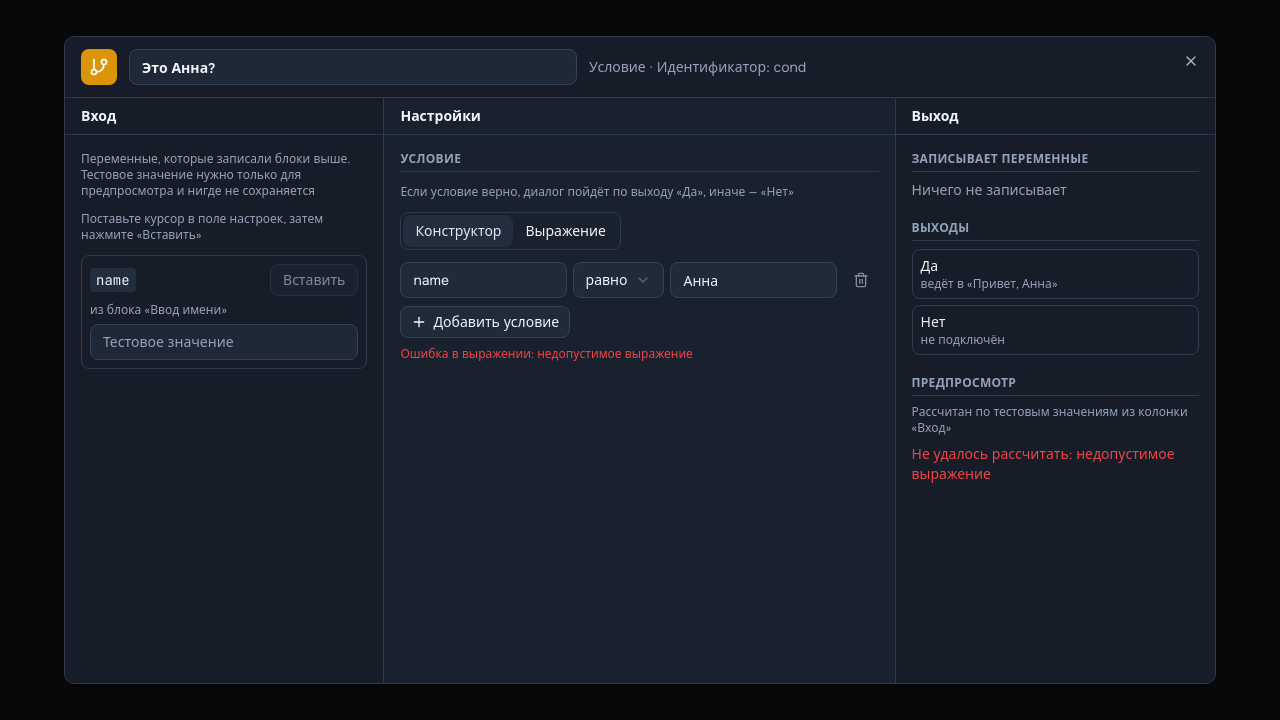
Test: BlockDialog › конструктор условий › удаление строки не сдвигает чужие значения, а её цель «Вставить» сбрасывается
Click the button "Добавить условие" at coordinates (485, 322), box x1=400 y1=306 x2=570 y2=338
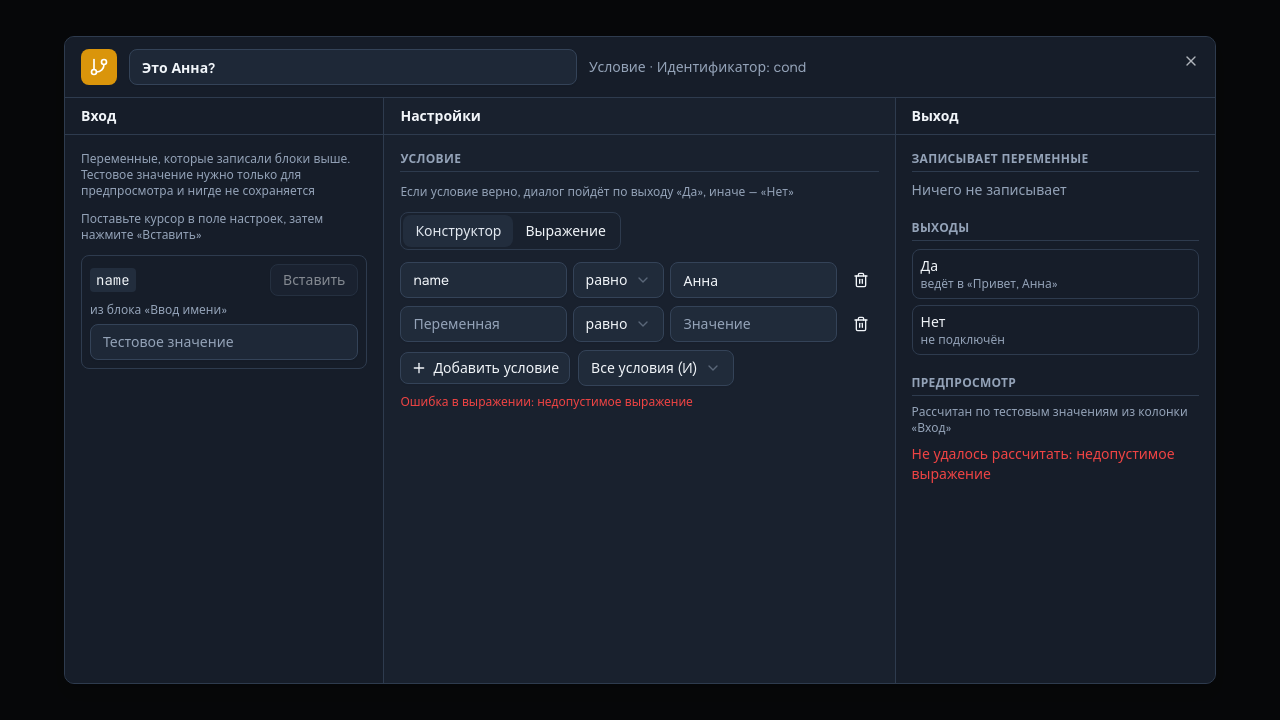
Type "second" into the field named "Переменная 2" at coordinates (483, 324), box x1=400 y1=306 x2=566 y2=342
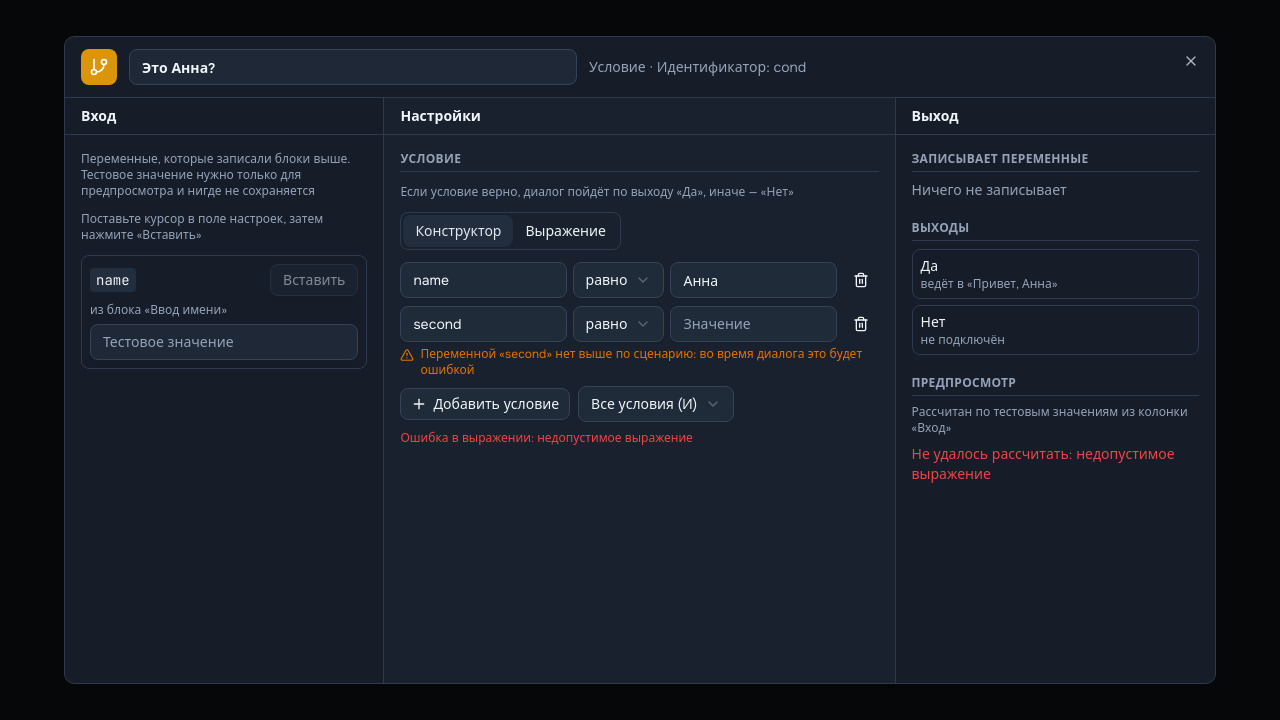
Focus the field named "Переменная 1" at coordinates (483, 280), box x1=400 y1=262 x2=566 y2=298
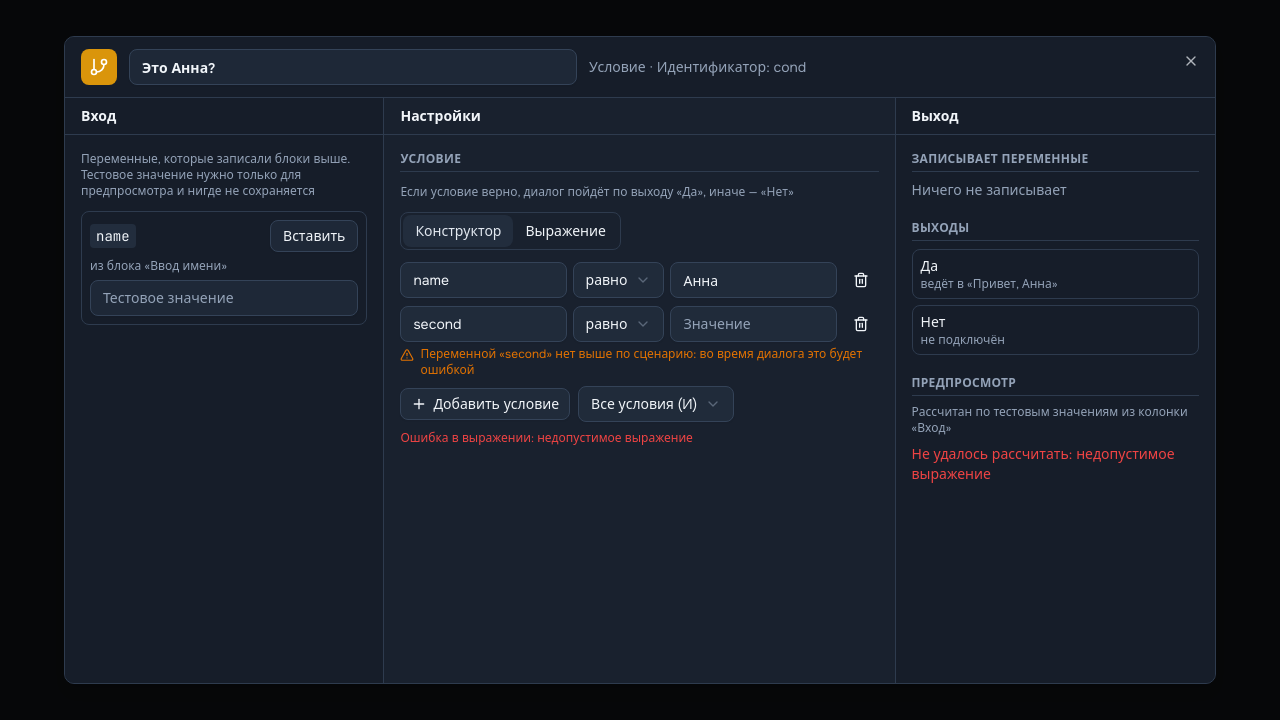
Click the 1st button named "Удалить условие" at coordinates (860, 280), box x1=842 y1=262 x2=878 y2=298
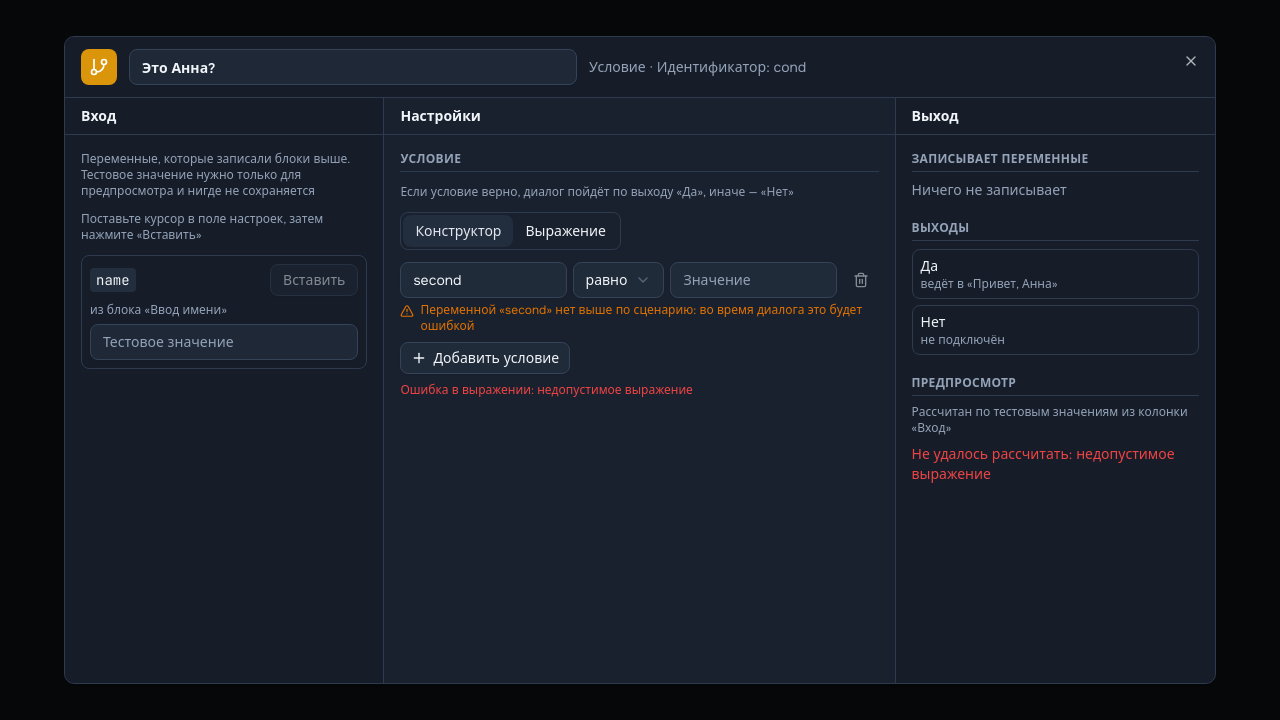
Now the number of elements with test id "condition-row" is 1, box x1=400 y1=262 x2=878 y2=334
